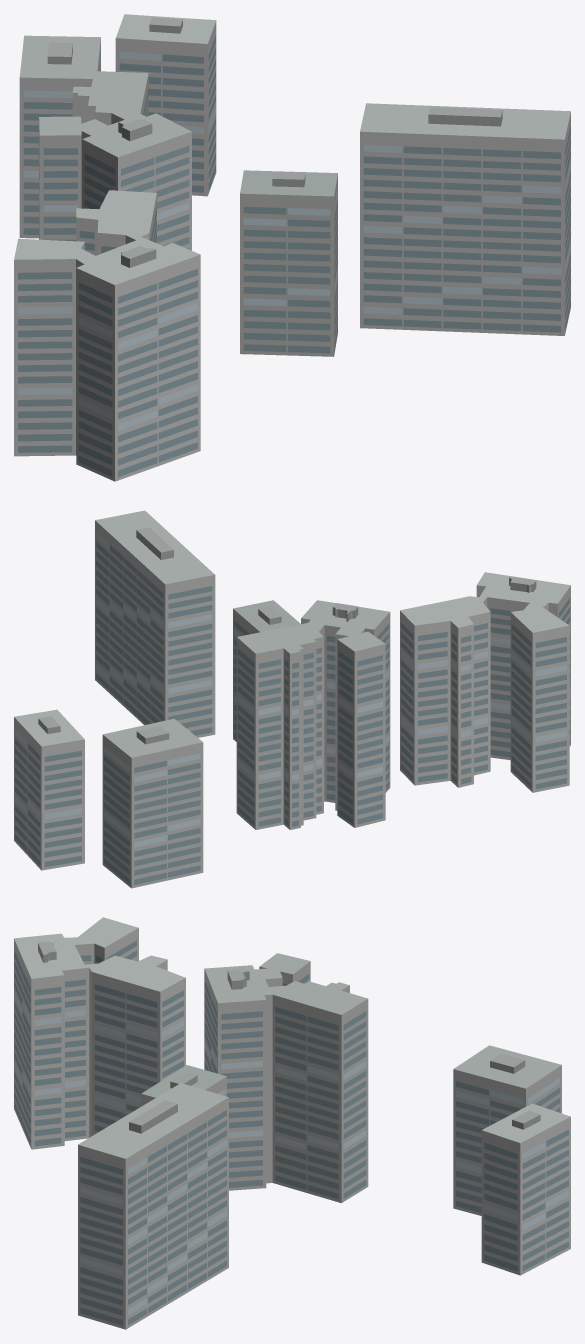
File: apt-a12201005.glb
3 renders of one model, top to bottom at view 1: azimuth 30°, elevation 25°; view 2: azimuth 150°, elevation 25°; view 3: azimuth 270°, elevation 25°, orthographic. The views are drawn at different scales.
Parts seen in each view (by area): view 1: apt-a12201005; view 2: apt-a12201005; view 3: apt-a12201005.
Part boxes in pixels (x1,y1,x2,y2): apt-a12201005: [14, 14, 570, 481]; apt-a12201005: [14, 510, 570, 888]; apt-a12201005: [14, 917, 570, 1329].
Bounding box in the file's own units: 142 × 54 × 138.
